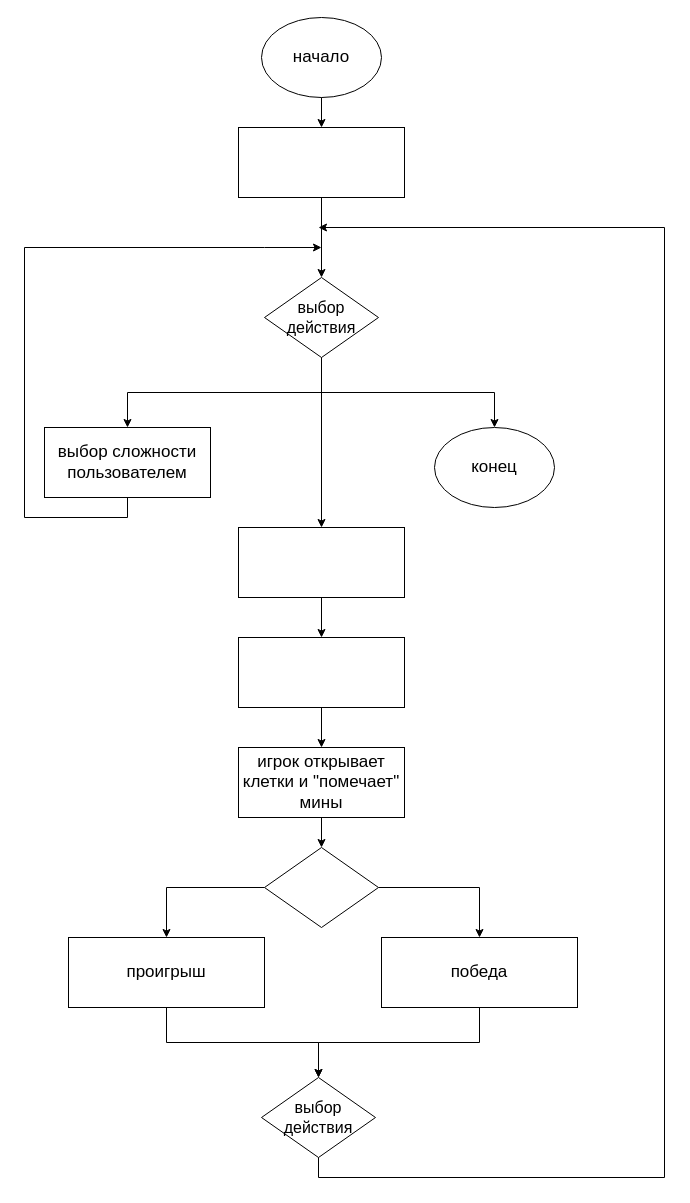
Image size: 690x1203. Some labels were removed from this diagram. The centre of each missing label's shape, as x and y in pixels:
компьютер расставляет мины на поле: the point at 321,672
конец игры: the point at 321,887
начало игры: the point at 321,562
открытие игры: the point at 321,162
